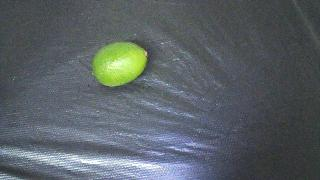LOCAL: (92, 42, 147, 87)
